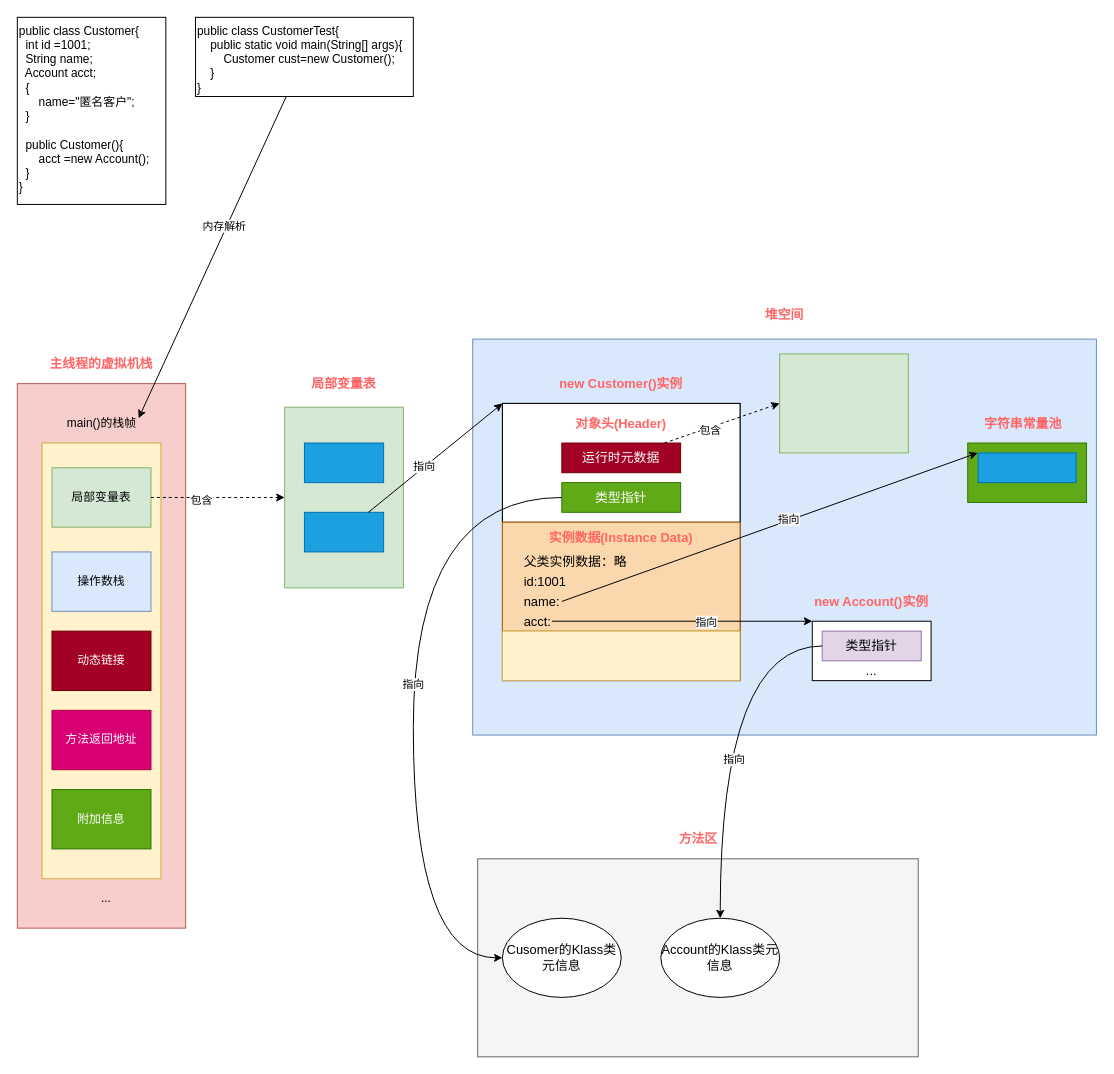
Some shapes in this 1114 by 1074 pixel diagram are drawn without their labels. Each missing label, with the centre of its shape:
args: point (343, 462)
cust: point (343, 531)
匿名客户: point (1026, 467)
哈希值（HashCode） GC分代年龄 锁状态标志 线程持有的锁 偏向线程ID 偏向时间戳: point (843, 403)
对齐填充(Padding): point (620, 655)
